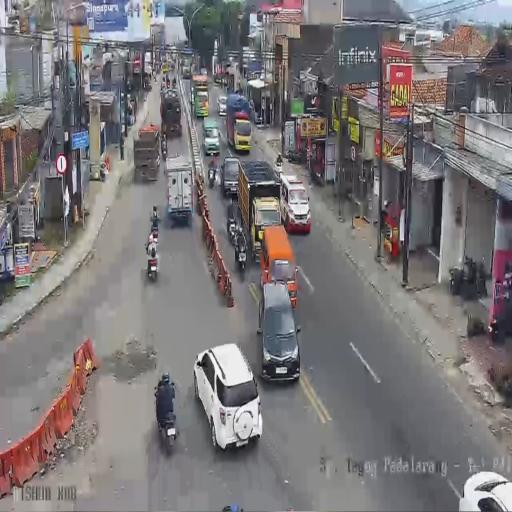car: (193, 344, 262, 450), (259, 282, 301, 378), (458, 470, 512, 510), (278, 172, 311, 234), (222, 156, 240, 197), (202, 120, 220, 155), (217, 96, 227, 116), (169, 58, 175, 71)
motorcycle: (146, 225, 158, 256), (207, 160, 217, 188), (172, 76, 176, 89), (154, 72, 156, 82)
truck: (235, 158, 281, 256), (165, 155, 194, 226), (133, 125, 160, 182), (226, 93, 252, 152), (160, 89, 182, 138), (191, 72, 208, 98), (182, 62, 191, 78), (214, 68, 222, 85), (162, 61, 170, 73)
